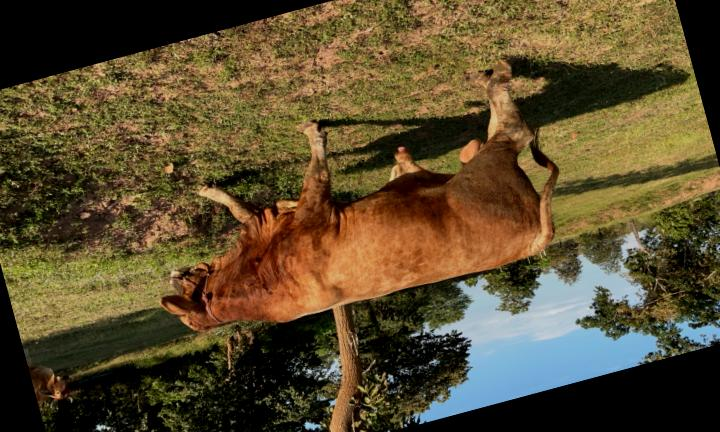Charolais: (160, 60, 559, 330)
